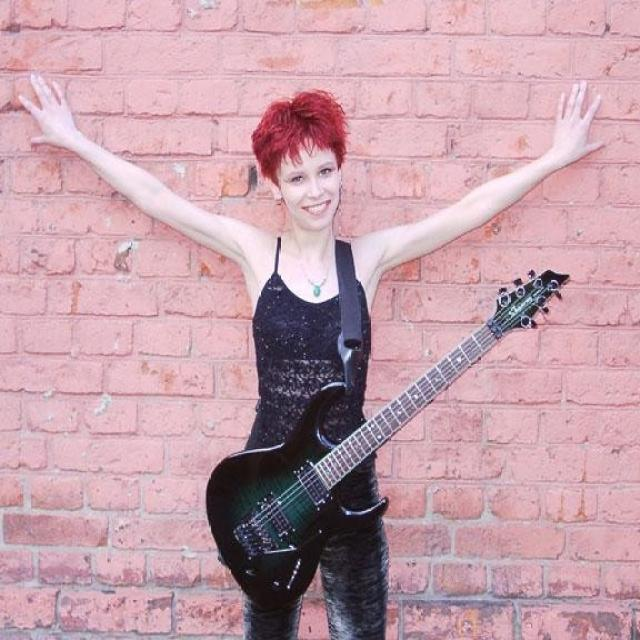guitar: (205, 266, 573, 614)
